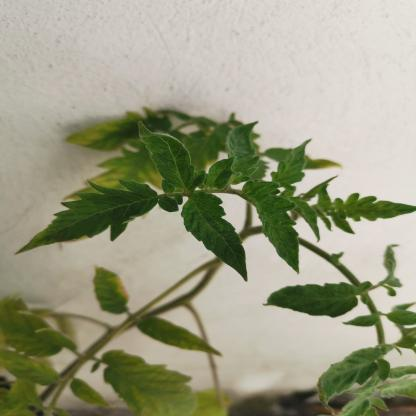T_L_R: (15, 180, 159, 256), (183, 192, 249, 283), (243, 180, 301, 276), (138, 121, 197, 191), (207, 157, 239, 191), (159, 195, 180, 213)
